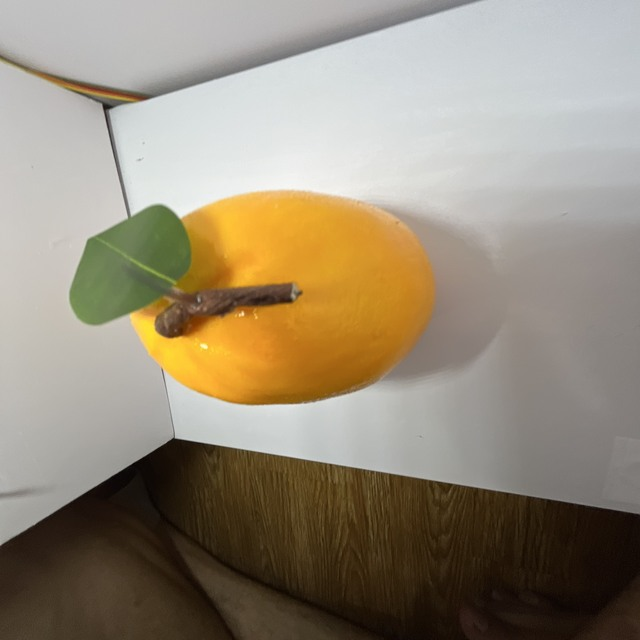Cam vang: (107, 187, 435, 409)
